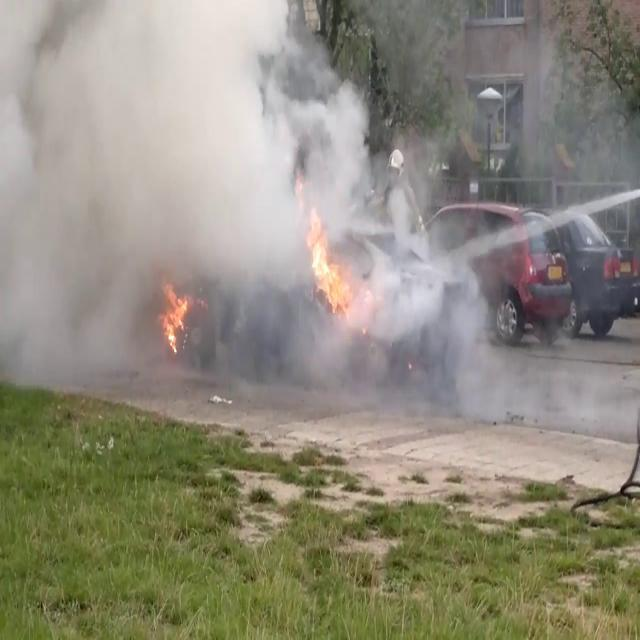Fire: (305, 209, 353, 317), (158, 276, 196, 352)
Smoke: (0, 0, 381, 366), (346, 188, 516, 418)
